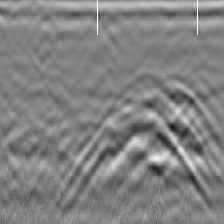Utility: (81, 74, 223, 187)
